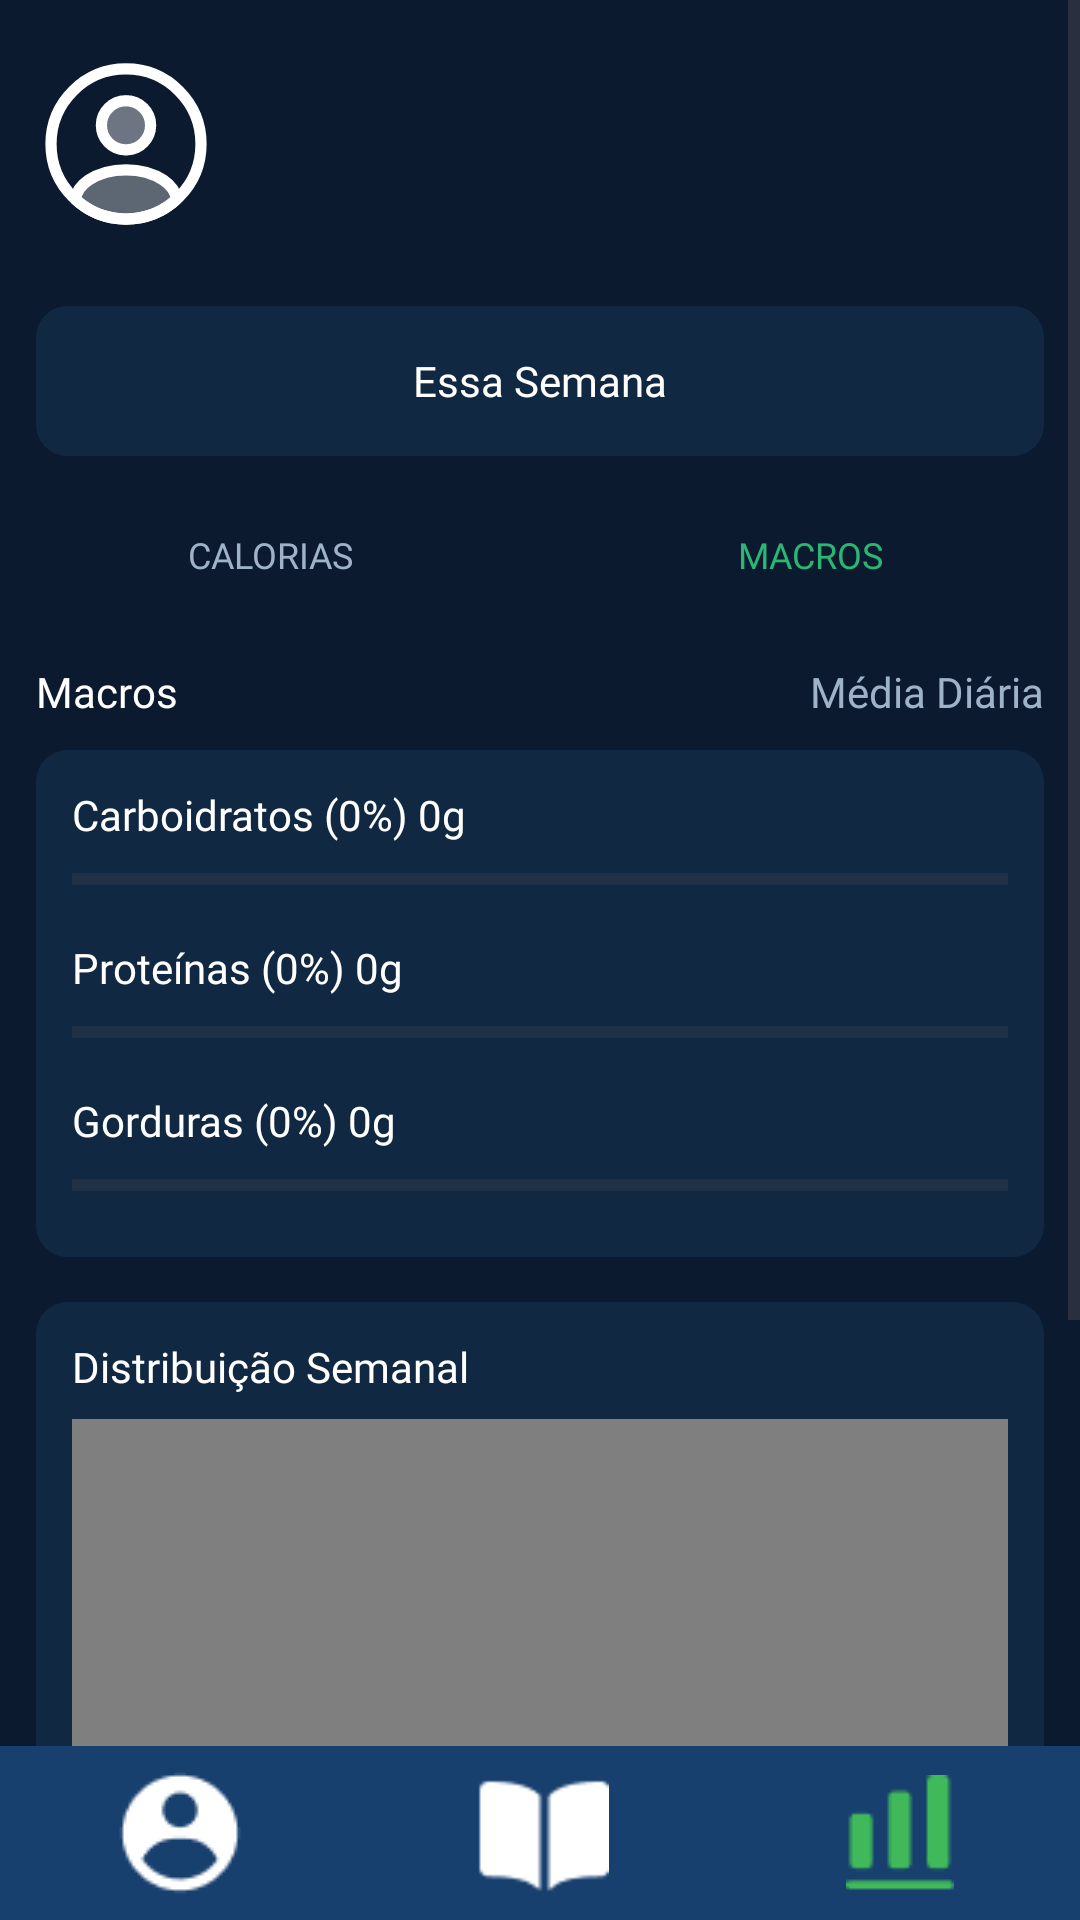

Named icons in this screenshot (1080w x 1920h) and their bounding boxes, {"left": x1, "top": y1, "right": x2, "bottom": y2}:
Diário: {"left": 479, "top": 1780, "right": 609, "bottom": 1891}
